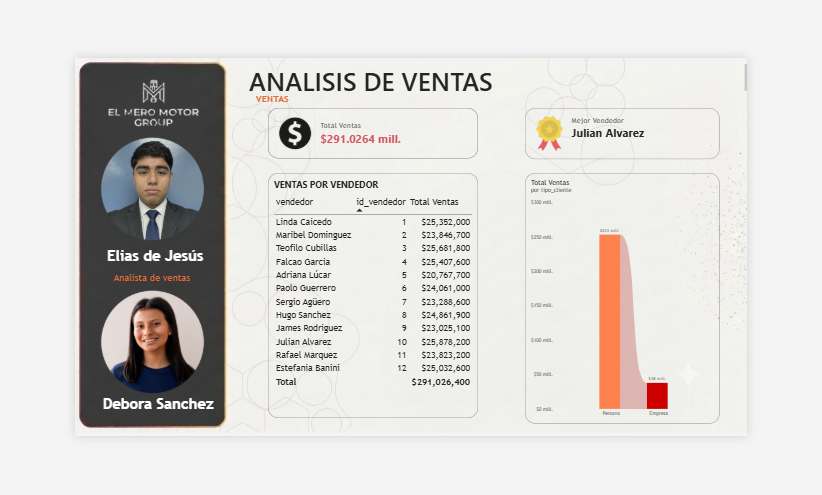

The page's visual inventory and layout, read from the dashboard file:
{"tool":"powerbi","page":{"name":"Task 1","canvas":[1920,1080],"ordinal":0},"visuals":[{"type":"tableEx","title":"VENTAS POR VENDEDOR","fields":{"Values":["vendedores.vendedor","vendedores.id_vendedor","Mejor_vendedor.Total Ventas"]},"box":[552,330,600,700],"z":0},{"type":"cardVisual","fields":{"Data":["Mejor_vendedor.Total Ventas"]},"box":[550.4,143.2,600,144],"z":1000},{"type":"textbox","box":[496,16,1424,86],"z":2000},{"type":"columnChart","fields":{"Category":["ventas.tipo_cliente"],"Y":["Mejor_vendedor.Total Ventas"]},"box":[1286,330,556,716],"z":3000},{"type":"cardVisual","fields":{"Data":["Mejor_vendedor.Mejor Vendedor"]},"box":[1284.4,143.2,556,146],"z":4000},{"type":"image","box":[14.3,165.7,412.2,425.6],"z":5000},{"type":"image","box":[24.3,47.1,394.3,380],"z":6000},{"type":"textbox","box":[36.7,540,383.3,71.7],"z":7000},{"type":"textbox","box":[60,611.7,320,45],"z":8000},{"type":"image","box":[14,604,412.2,425.6],"z":9000},{"type":"textbox","box":[46,962,384,68],"z":10000},{"type":"textbox","box":[516,100,692,40],"z":11000}]}

Visuals, with their boxes on the page's 1920x1080 design canvas (x1, y1, x2, y2). These are canvas units, not pixel positions in the 822x495 screenshot, which may show the page scaled, cropped or inside an application window:
"VENTAS POR VENDEDOR" tableEx: {"x1": 552, "y1": 330, "x2": 1152, "y2": 1030}
cardVisual - Mejor_vendedor.Total Ventas: {"x1": 550, "y1": 143, "x2": 1150, "y2": 287}
textbox: {"x1": 496, "y1": 16, "x2": 1920, "y2": 102}
columnChart - ventas.tipo_cliente x Mejor_vendedor.Total Ventas: {"x1": 1286, "y1": 330, "x2": 1842, "y2": 1046}
cardVisual - Mejor_vendedor.Mejor Vendedor: {"x1": 1284, "y1": 143, "x2": 1840, "y2": 289}
image: {"x1": 14, "y1": 166, "x2": 426, "y2": 591}
image: {"x1": 24, "y1": 47, "x2": 419, "y2": 427}
textbox: {"x1": 37, "y1": 540, "x2": 420, "y2": 612}
textbox: {"x1": 60, "y1": 612, "x2": 380, "y2": 657}
image: {"x1": 14, "y1": 604, "x2": 426, "y2": 1030}
textbox: {"x1": 46, "y1": 962, "x2": 430, "y2": 1030}
textbox: {"x1": 516, "y1": 100, "x2": 1208, "y2": 140}
